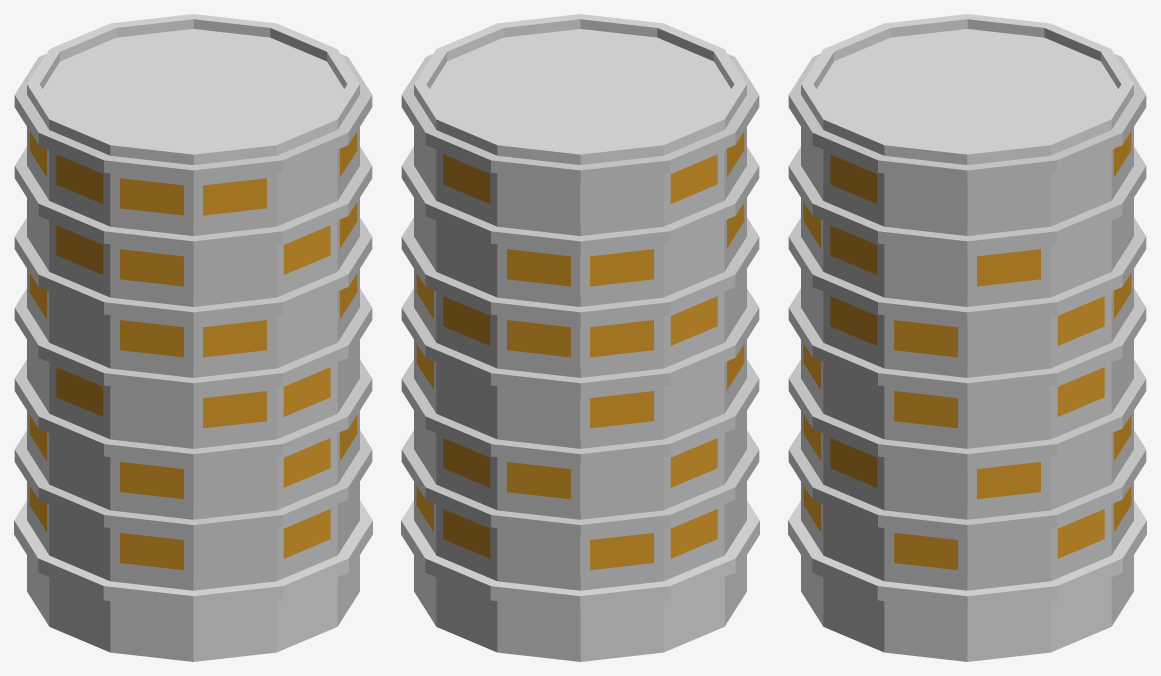
3 renders of one model, left to right at view 1: azimuth 30°, elevation 25°; view 2: azimuth 150°, elevation 25°; view 3: azimuth 270°, elevation 25°, orthographic.
Visible parts, largest first — view 1: rBody, rTop, rBottom; view 2: rBody, rTop, rBottom; view 3: rBody, rTop, rBottom.
Part boxes in pixels (bbox=[...]): rBody: bbox=[14, 54, 372, 590]; rTop: bbox=[27, 14, 359, 164]; rBottom: bbox=[14, 500, 372, 661]; rBody: bbox=[401, 54, 759, 590]; rTop: bbox=[414, 14, 746, 164]; rBottom: bbox=[401, 500, 759, 661]; rBody: bbox=[788, 54, 1146, 590]; rTop: bbox=[801, 14, 1133, 164]; rBottom: bbox=[788, 500, 1146, 661].
Bounding box in the file's own units: 216 × 216 × 336.
